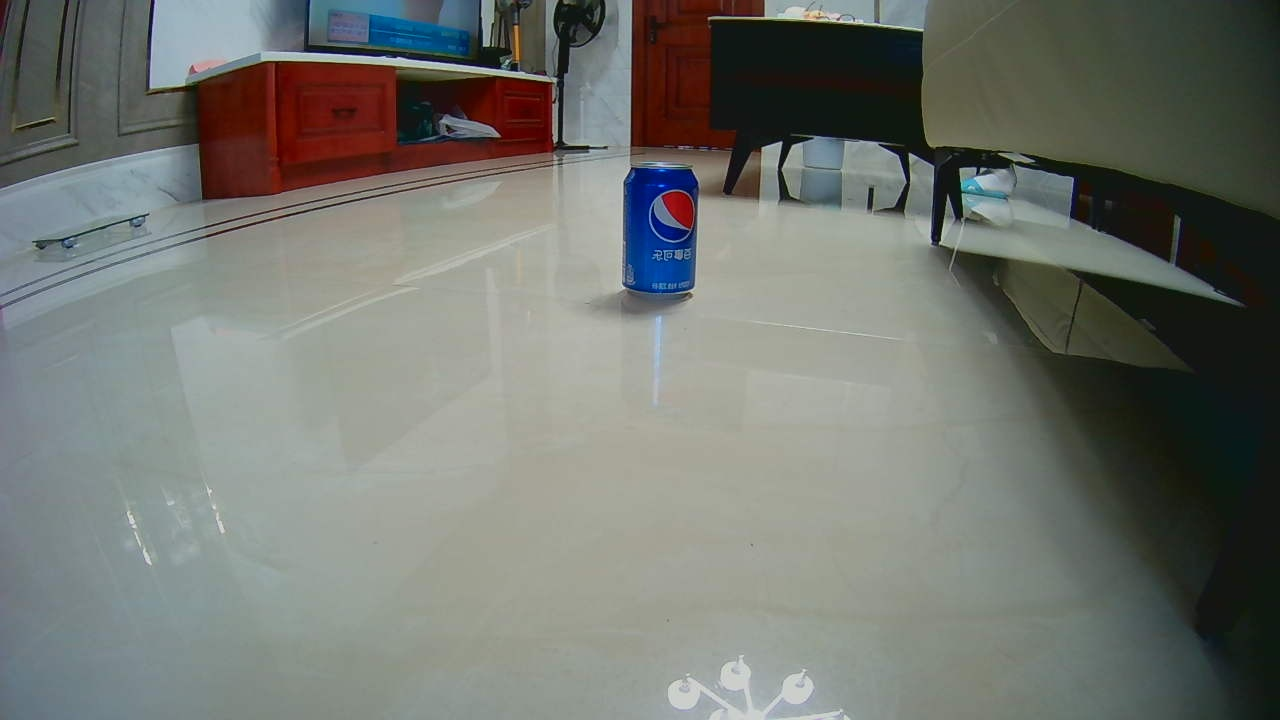pessi: (627, 163, 693, 296)
